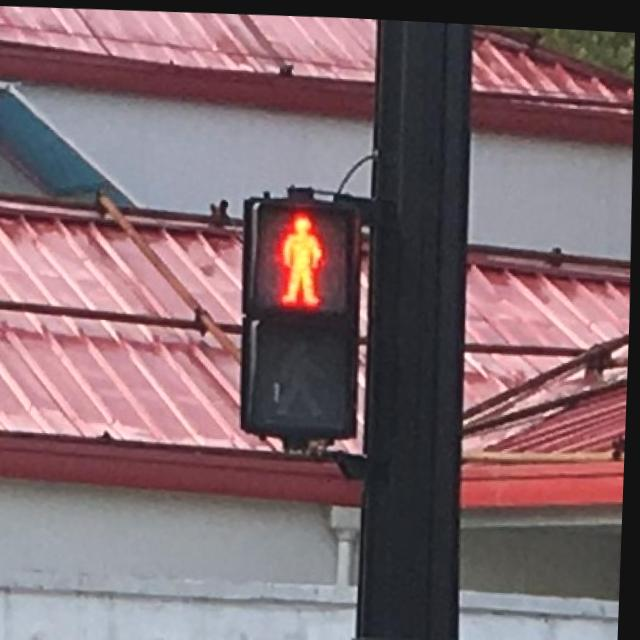red_light: (253, 194, 358, 309)
